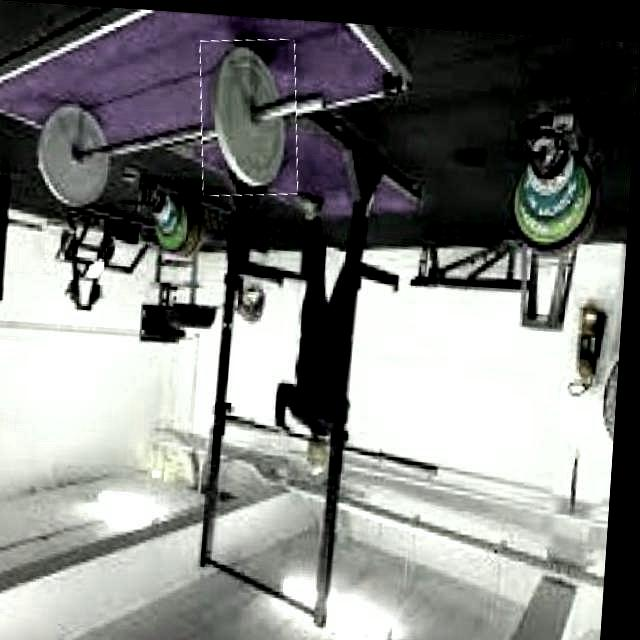barbell: (197, 32, 306, 196)
